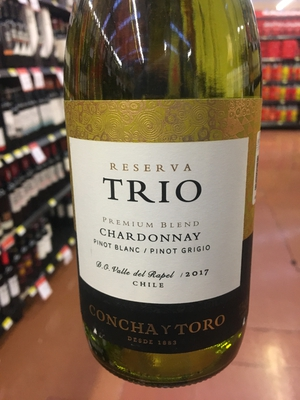trio chardonnay: (57, 4, 271, 390)
